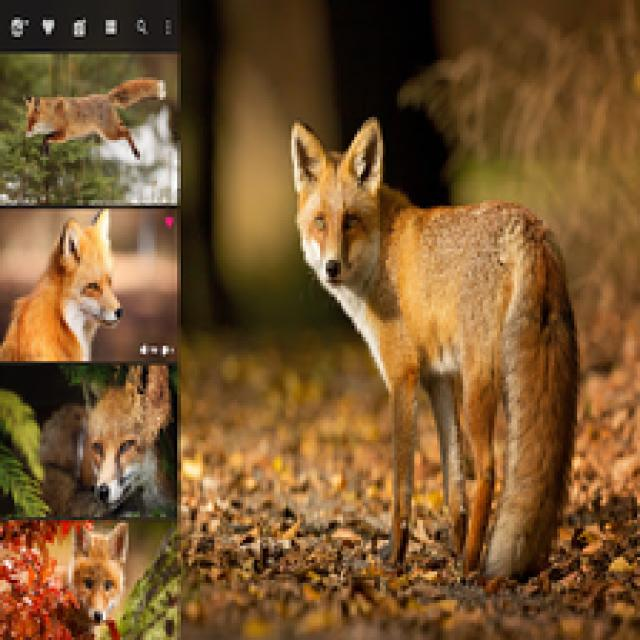fox: (262, 123, 611, 574), (0, 54, 183, 199), (0, 209, 186, 347), (0, 361, 178, 503), (7, 523, 174, 637)
